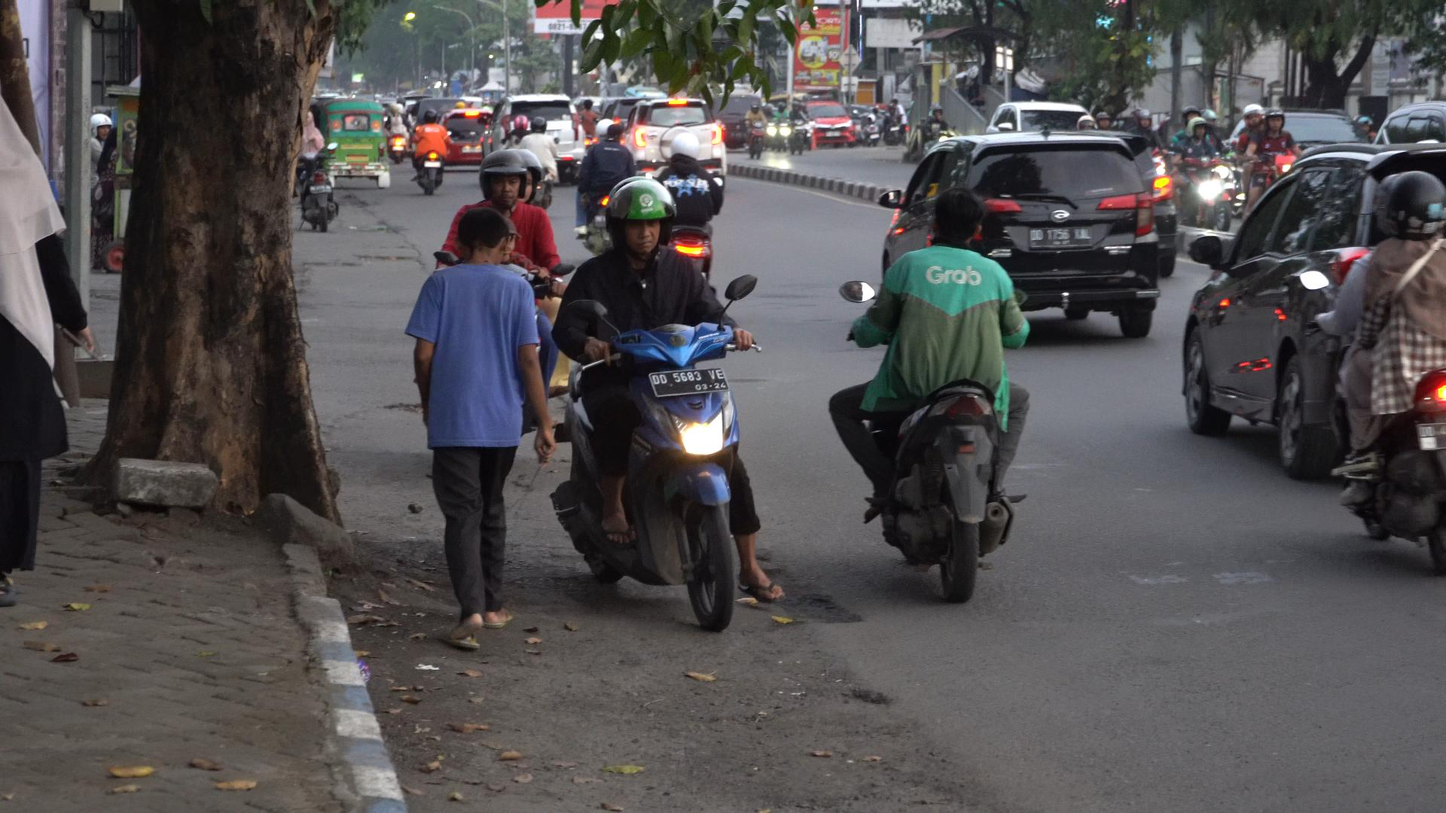number-plate: (645, 366, 731, 401)
